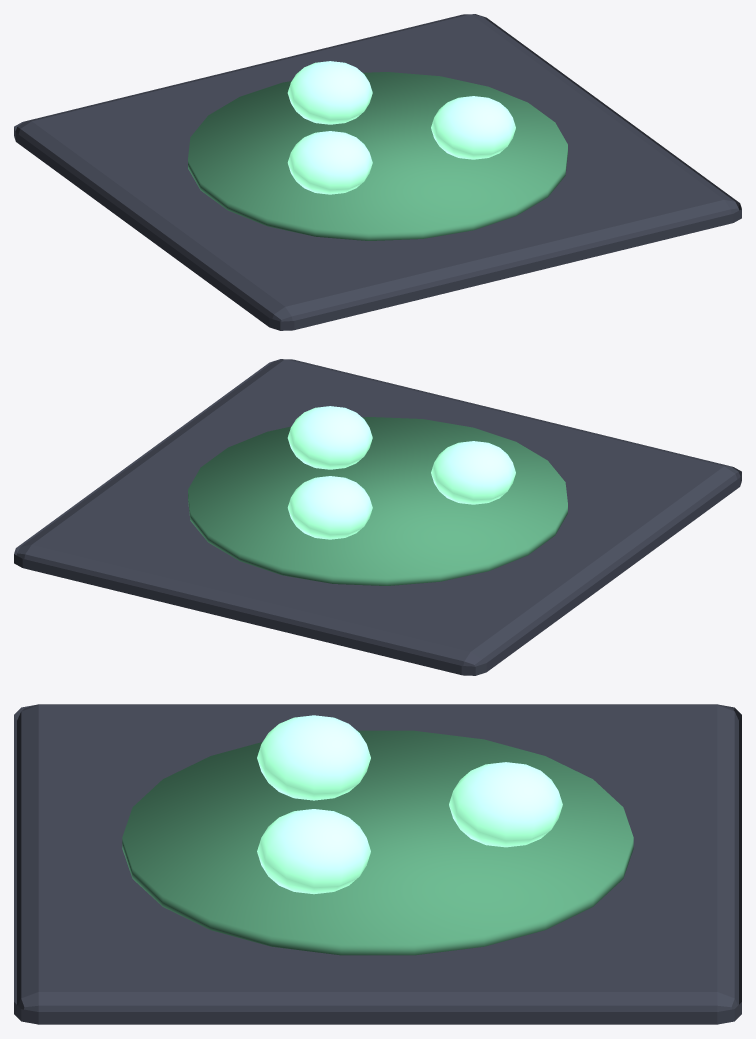
File: trap_sleep.glb
3 renders of one model, top to bottom at view 1: azimuth 30°, elevation 25°; view 2: azimuth 150°, elevation 25°; view 3: azimuth 270°, elevation 25°, orthographic. The views are drawn at different scales.
Visible parts, largest first — view 1: trap_sleep; view 2: trap_sleep; view 3: trap_sleep.
Boxes of the visible parts, x1=… form: trap_sleep: x1=14, y1=14, x2=741, y2=330; trap_sleep: x1=14, y1=359, x2=741, y2=675; trap_sleep: x1=14, y1=704, x2=741, y2=1024.
Size of the model in its own units: 0.74 by 0.1256 by 0.74.
